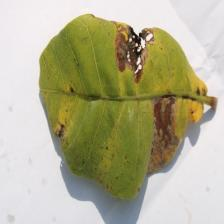leaf miner: (38, 12, 218, 200)
